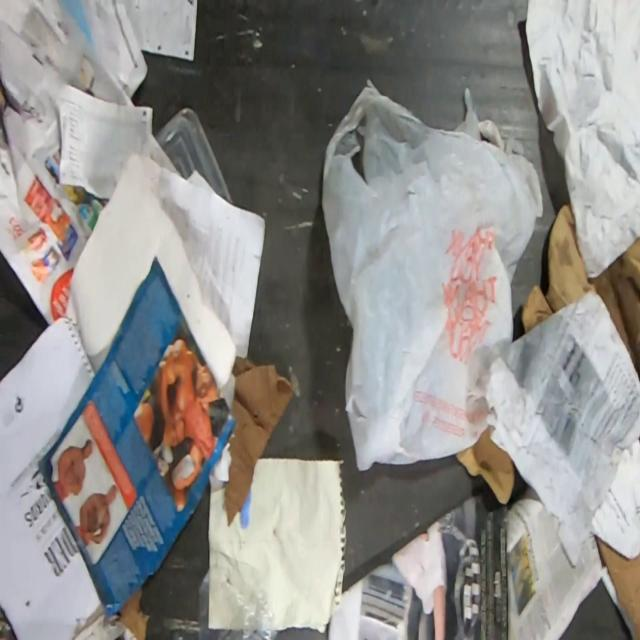cardboard: (522, 206, 640, 380), (225, 355, 294, 528), (597, 538, 639, 636)
rigid_plastic: (152, 108, 234, 204), (198, 563, 275, 637)
soft_plastic: (320, 80, 542, 470)
